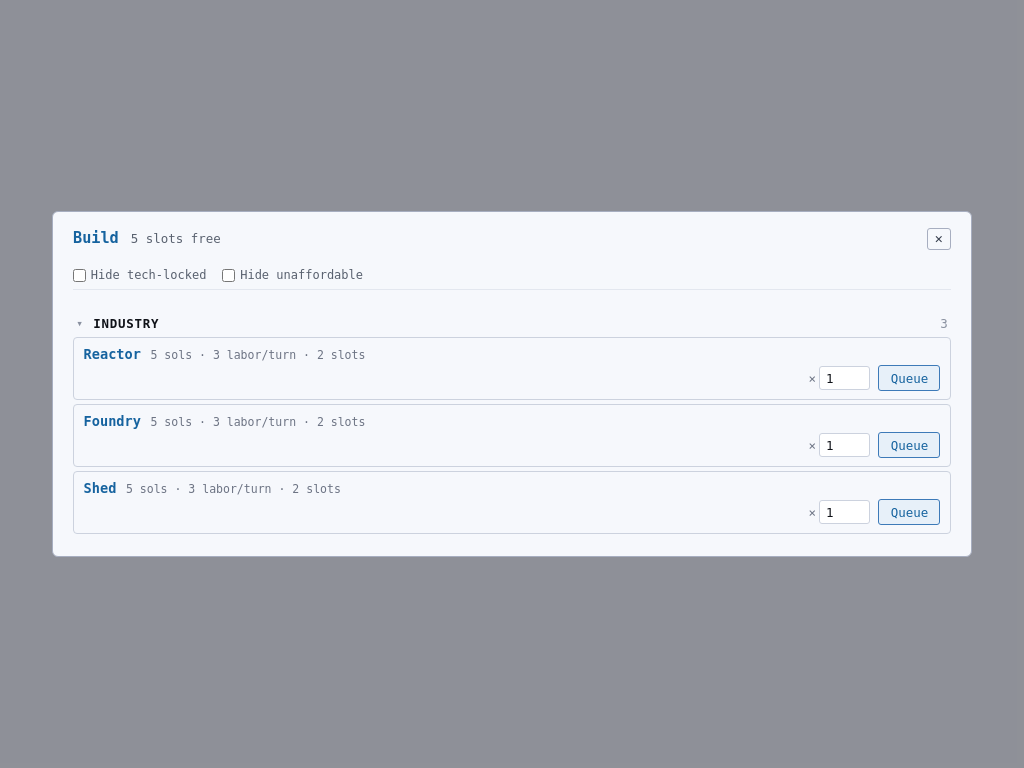
Scenario: BuildDialog catalogue filters › hides only tech-locked entries when that filter is on
The width and height of the screenshot is (1024, 768).
Click the checkbox with test id "filter-hide-tech-locked": (80, 275) [73,269,86,282]
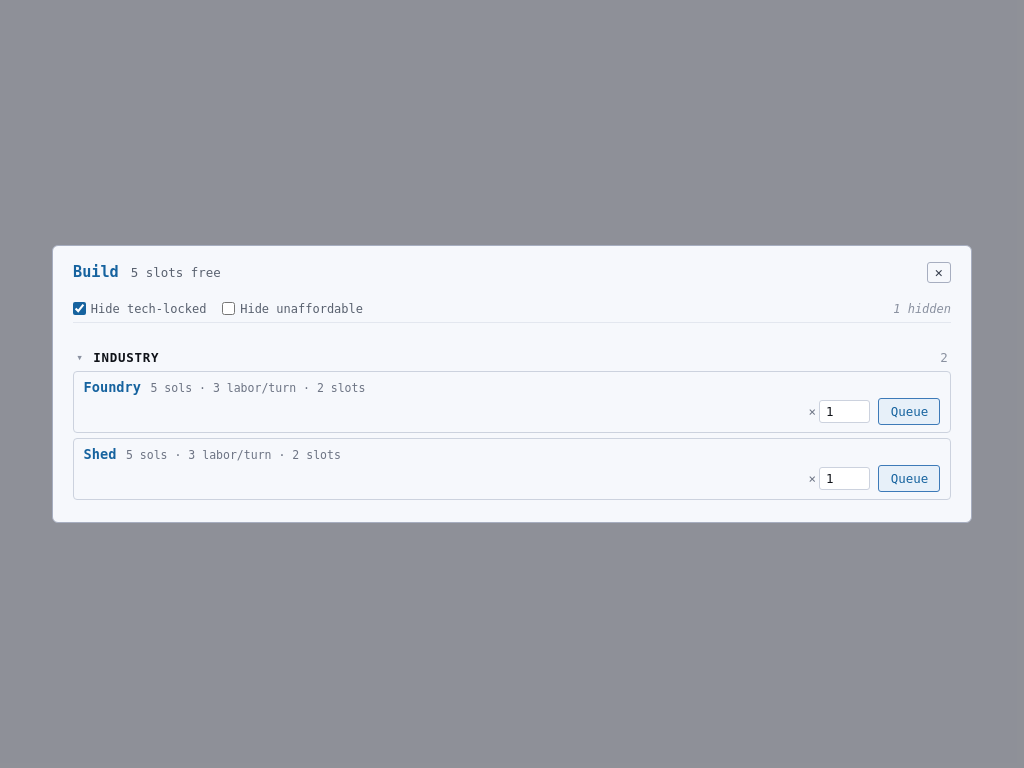
Now the text with test id "build-dialog-hidden-count" shows "1", box [893,302,951,316]
